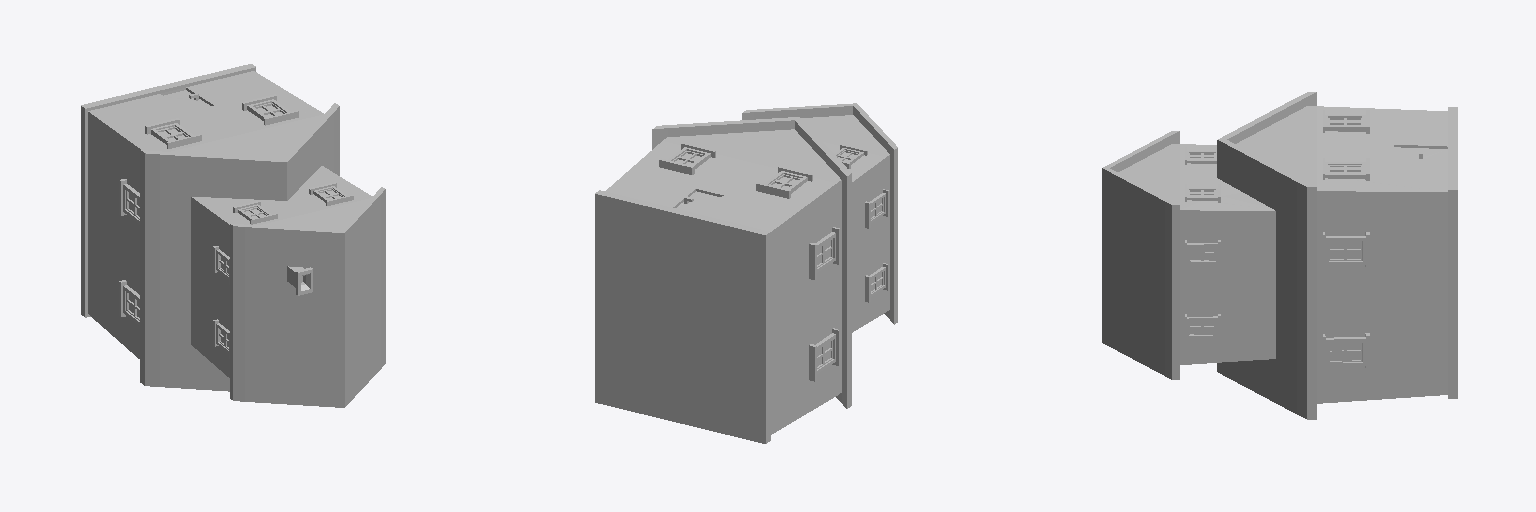
File: building_tall.obj
3 views of the same model, side by side, from view 1: azimuth 30°, elevation 25°; view 2: azimuth 150°, elevation 25°; view 3: azimuth 270°, elevation 25° (orthographic).
Parts seen in each view (by area): view 1: House3; view 2: House3; view 3: House3.
Boxes of the visible parts, x1=… form: House3: x1=81, y1=64, x2=385, y2=407; House3: x1=595, y1=103, x2=897, y2=443; House3: x1=1102, y1=92, x2=1457, y2=419.
Bounding box in the file's own units: 1.25 × 1.44 × 1.99.